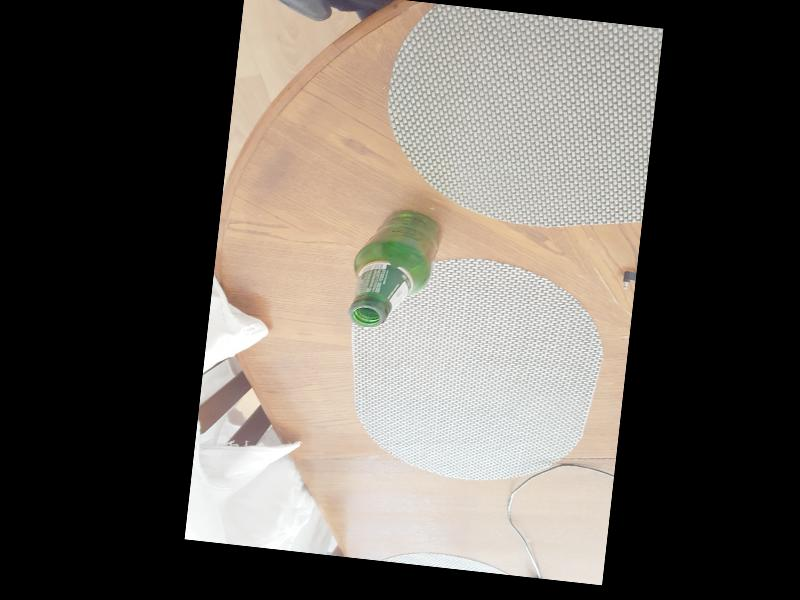Beer: (347, 203, 442, 333)
